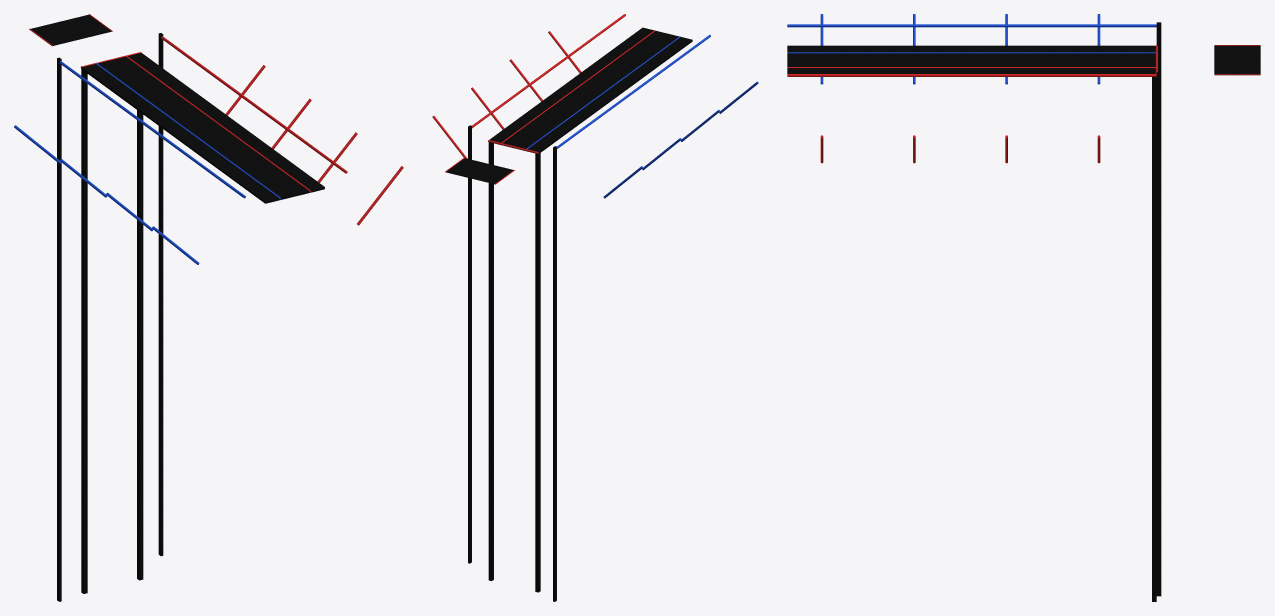
Rendered from platform.dae.
The picture shows the model from 3 angles, left to right: view 1: azimuth 30°, elevation 25°; view 2: azimuth 150°, elevation 25°; view 3: azimuth 270°, elevation 25°; orthographic projection. The views are drawn at different scales.
Visible parts, largest first — view 1: block (×6), cylinder (×2); view 2: block (×6), cylinder (×2); view 3: block (×4), cylinder (×3).
Boxes of the visible parts, x1,y1,x2,y2 form: block (×6): [31, 14, 324, 601]; cylinder (×2): [59, 36, 347, 198]; block (×6): [446, 27, 692, 601]; cylinder (×2): [472, 14, 710, 148]; block (×4): [787, 45, 1260, 601]; cylinder (×3): [787, 24, 1156, 76].
Size of the model in its own units: 12.61 by 26 by 20.5.
3 materials, 1 textured.
